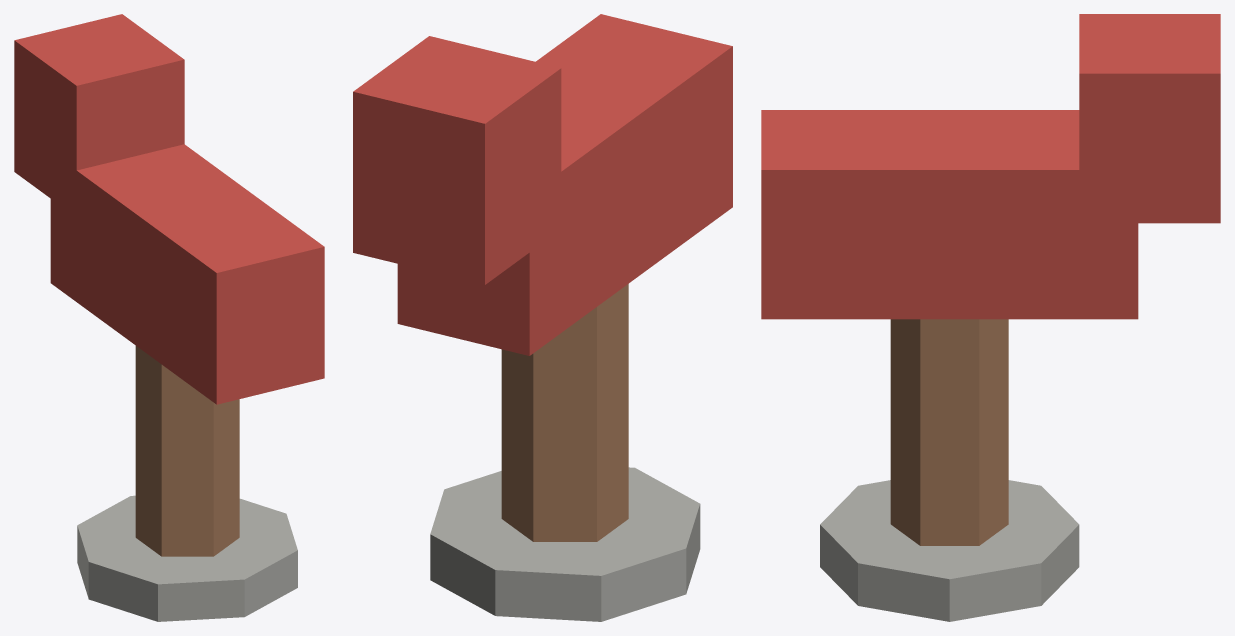
File: SM_SpringRider.fbx
The picture shows the model from 3 angles, left to right: view 1: azimuth 30°, elevation 25°; view 2: azimuth 150°, elevation 25°; view 3: azimuth 270°, elevation 25°; orthographic projection. The views are drawn at different scales.
Parts seen in each view (by area): view 1: SM_SpringRider; view 2: SM_SpringRider; view 3: SM_SpringRider.
Part boxes in pixels (x1,y1,x2,y2): SM_SpringRider: (14,14,324,621); SM_SpringRider: (353,14,732,621); SM_SpringRider: (761,14,1220,621).
Bounding box in the file's own units: 220 × 490 × 390.
